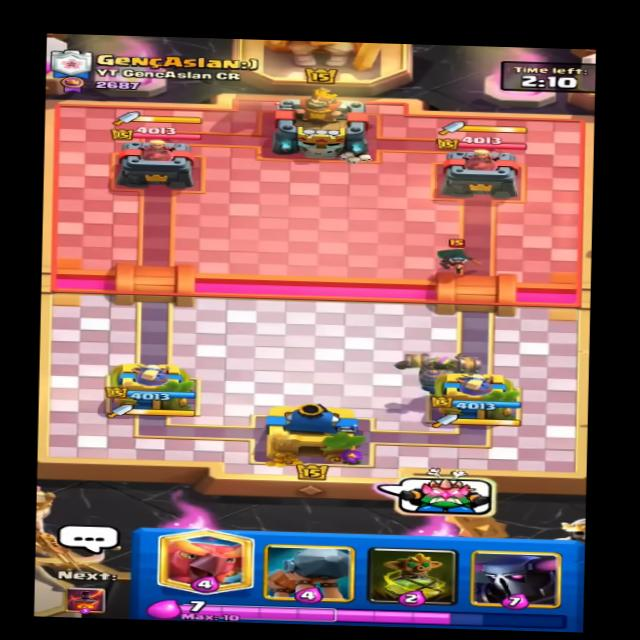bandit: (418, 236, 488, 276)
